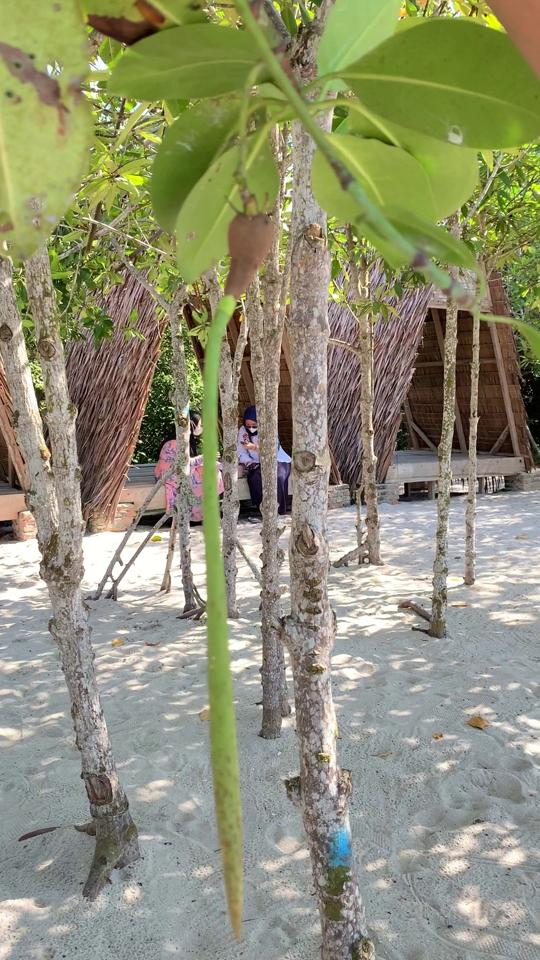setengah matang: (196, 179, 287, 941)
